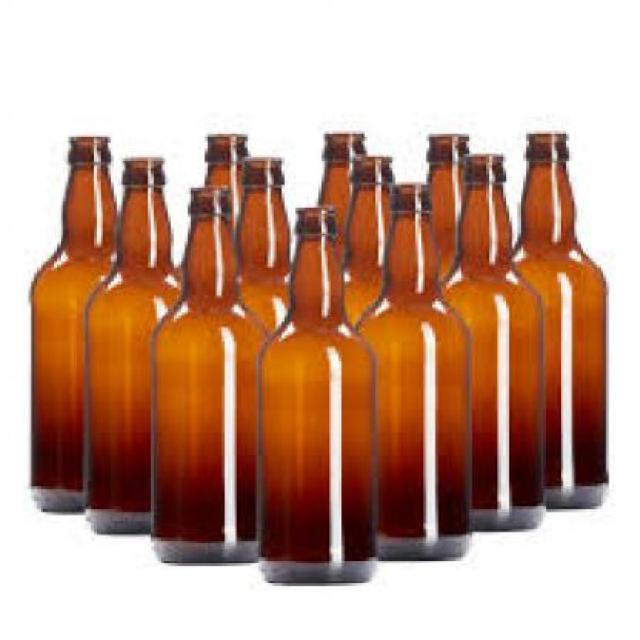kaca: (144, 185, 268, 560), (254, 205, 372, 580), (354, 180, 464, 558), (435, 154, 543, 526), (509, 131, 606, 509), (83, 157, 177, 532), (29, 134, 120, 512), (237, 157, 291, 325), (344, 157, 398, 308), (423, 133, 472, 284), (316, 131, 362, 211), (202, 134, 242, 184)
